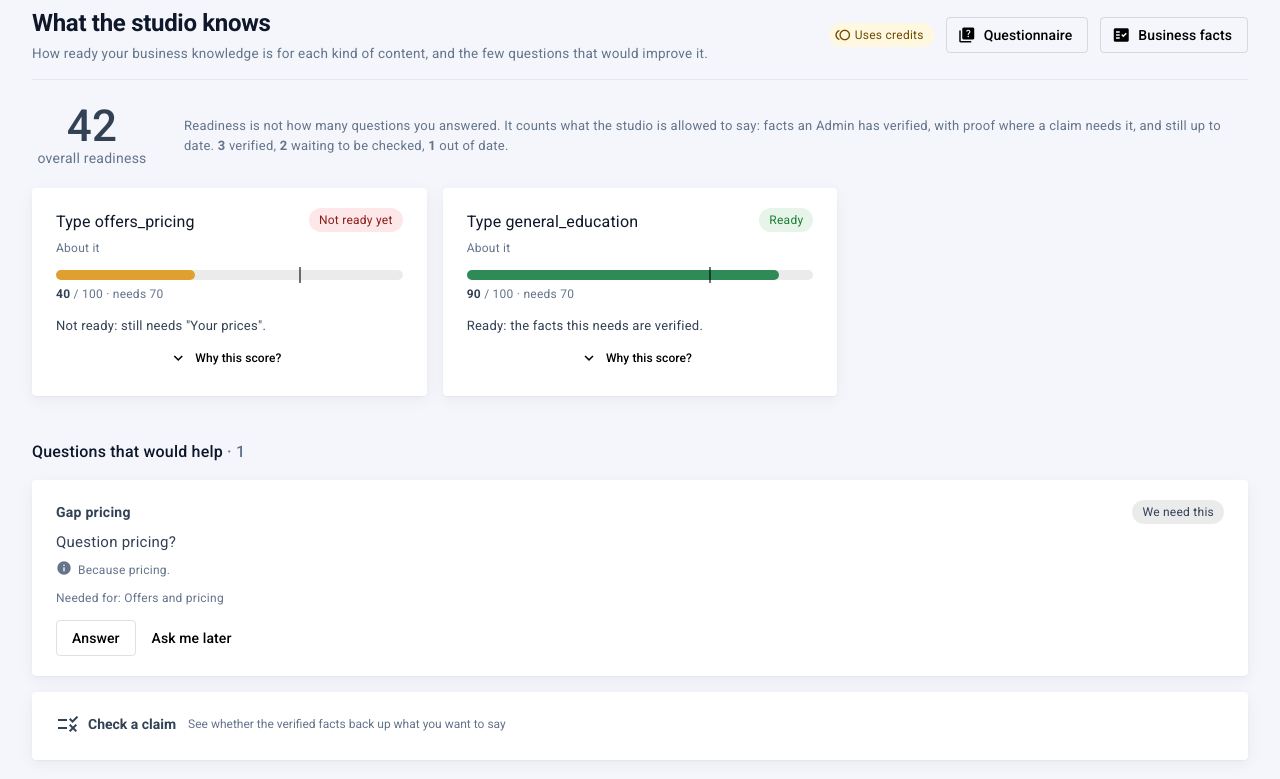
Test: StudioReadinessComponent › check a claim › does nothing when there is nothing to check
Click the button with class "claims-toggle" at (132, 724), box [56, 712, 1224, 736]
(page scrolled)
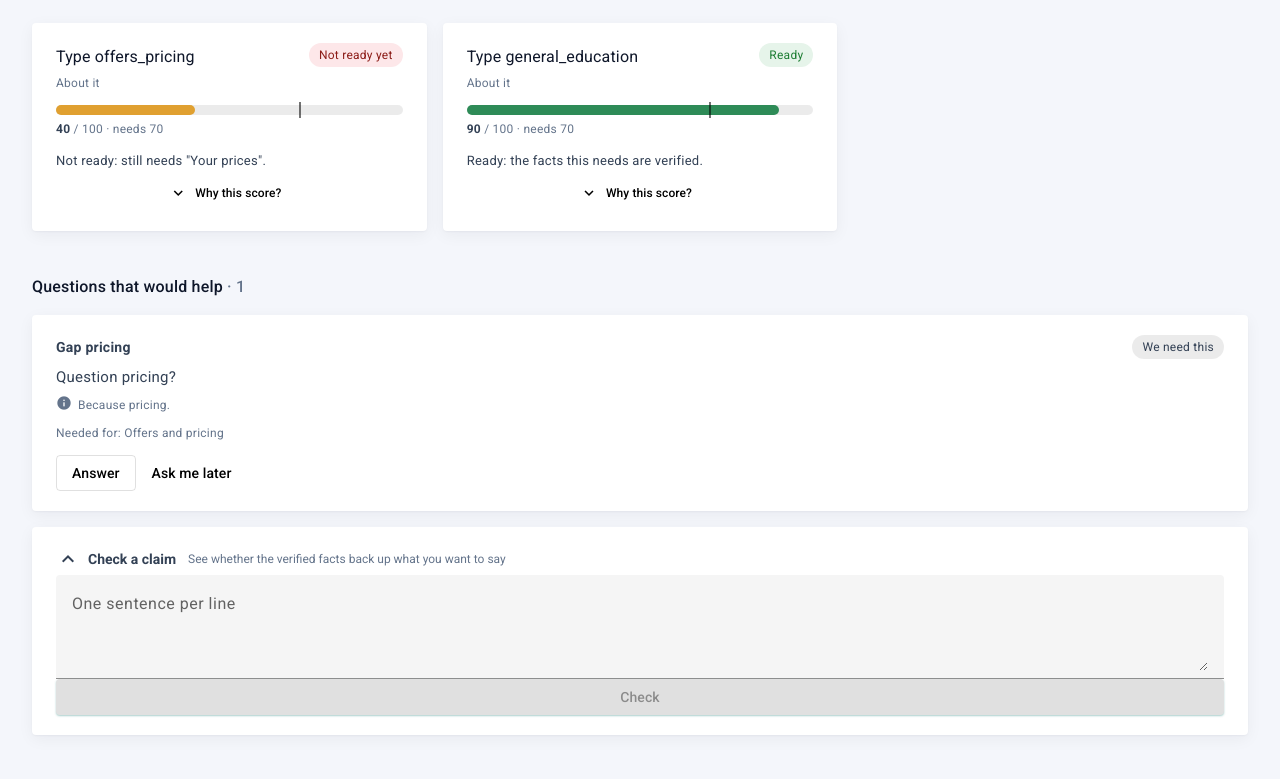
Result: the button with class "check-claims" is disabled at [56, 679, 1224, 715]
